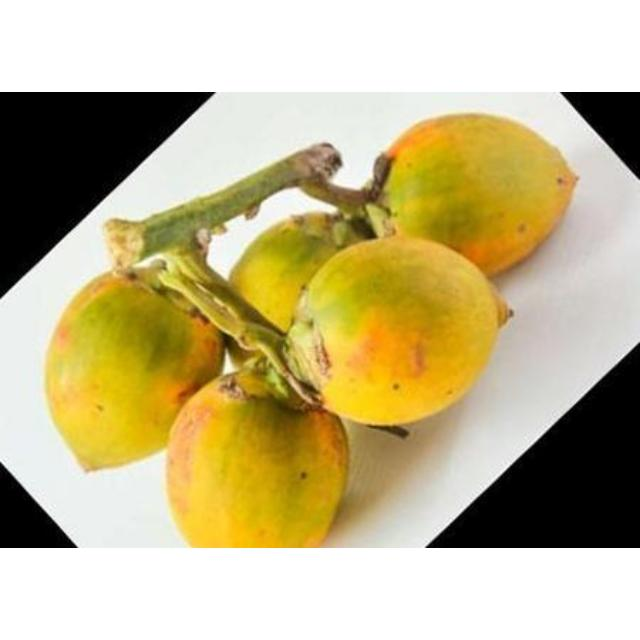good: (292, 234, 506, 426), (43, 268, 221, 472), (371, 114, 575, 276), (165, 371, 347, 547), (228, 212, 364, 336)
